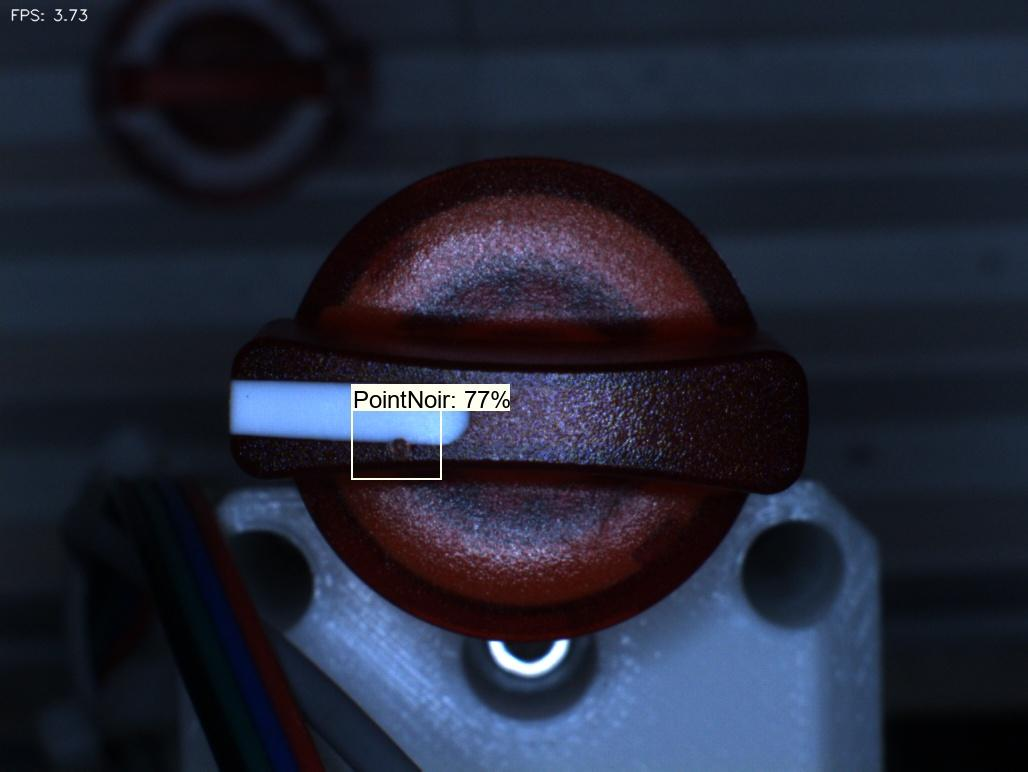Choc: (357, 414, 438, 484)
